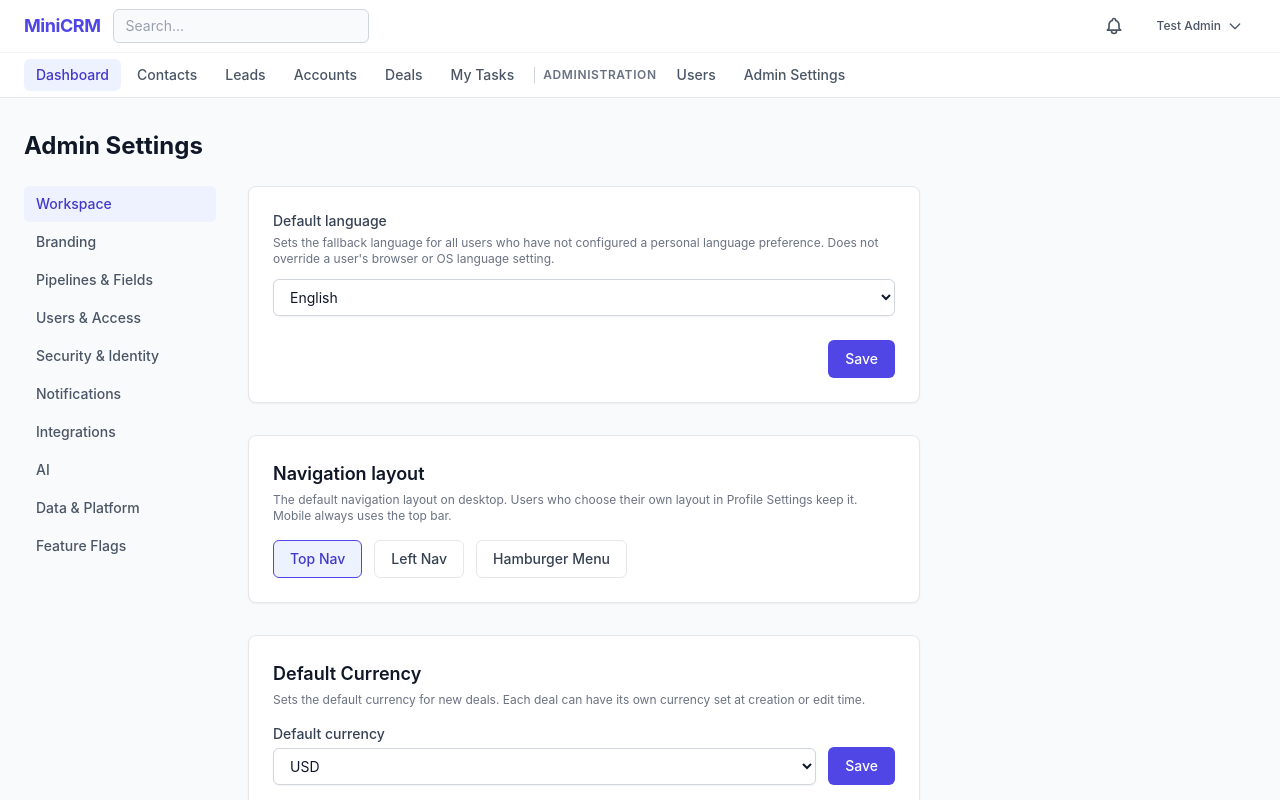
Test: AdminSettingsPage › save action › disables the save button while the mutation is pending
This screenshot has width=1280, height=800.
Click the button with test id "settings-save" at (862, 359), box top-left (828, 340), bottom-right (895, 378)
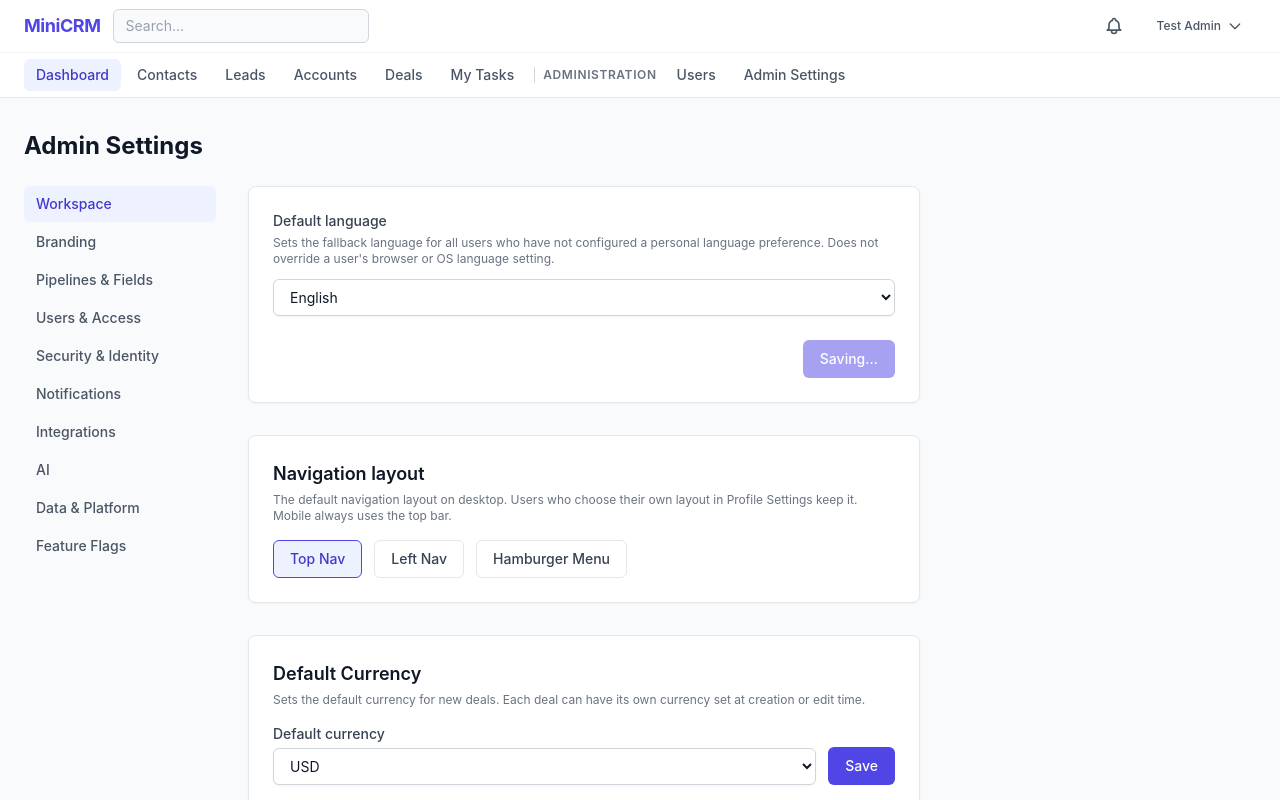
Expected: the button with test id "settings-save" is disabled, top-left (803, 340), bottom-right (895, 378)
